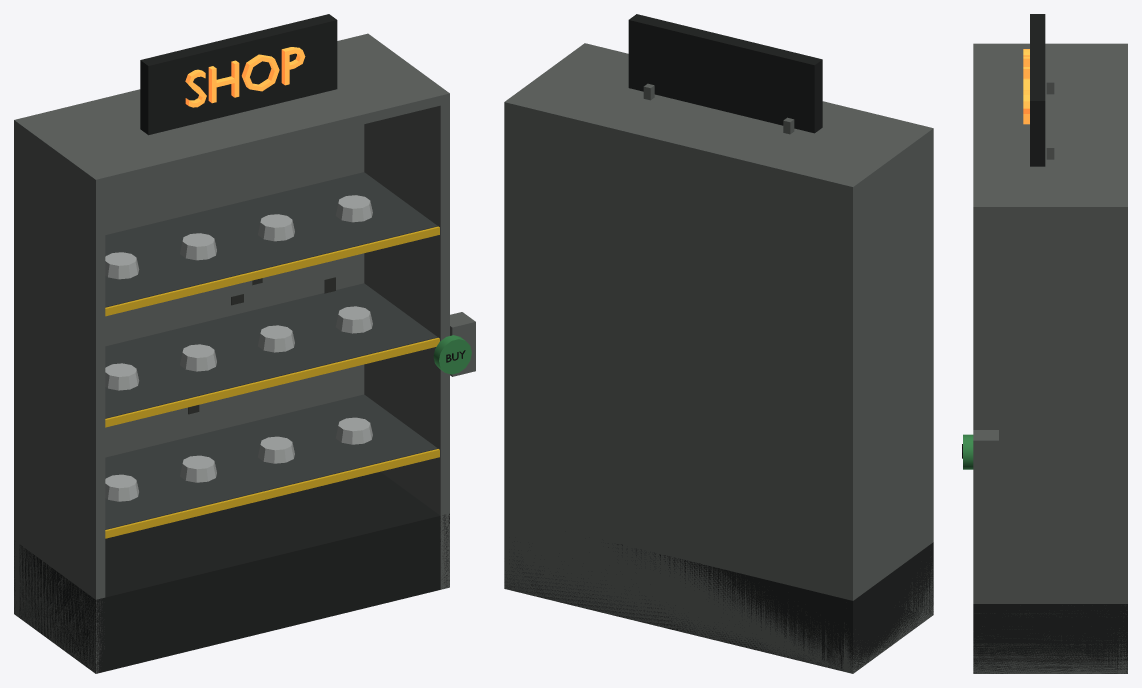
Rendered from shop_stand.glb.
3 renders of one model, left to right at view 1: azimuth 30°, elevation 25°; view 2: azimuth 150°, elevation 25°; view 3: azimuth 270°, elevation 25°, orthographic. The views are drawn at different scales.
Parts seen in each view (by area): view 1: shop_stand, sign, buy_button, buy_mount, pedestal_12, pedestal_11, pedestal_10, pedestal_2, pedestal_3, pedestal_4, pedestal_6, pedestal_7 (+4 smaller); view 2: shop_stand; view 3: shop_stand, buy_mount, sign, buy_button.
Boxes of the visible parts, <box> form: shop_stand: <box>14,14,449,673</box>; sign: <box>185,47,305,107</box>; buy_button: <box>433,335,471,374</box>; buy_mount: <box>450,312,475,376</box>; pedestal_12: <box>335,195,372,222</box>; pedestal_11: <box>258,214,294,241</box>; pedestal_10: <box>180,233,216,260</box>; pedestal_2: <box>180,455,216,482</box>; pedestal_3: <box>258,436,294,463</box>; pedestal_4: <box>335,417,372,444</box>; pedestal_6: <box>180,344,216,371</box>; pedestal_7: <box>258,325,294,352</box>; shop_stand: <box>504,14,933,673</box>; shop_stand: <box>973,14,1127,673</box>; buy_mount: <box>973,430,998,487</box>; sign: <box>1023,49,1029,124</box>; buy_button: <box>962,434,973,469</box>.
Bounding box in the file's own units: 1.61 × 2.29 × 0.643.
